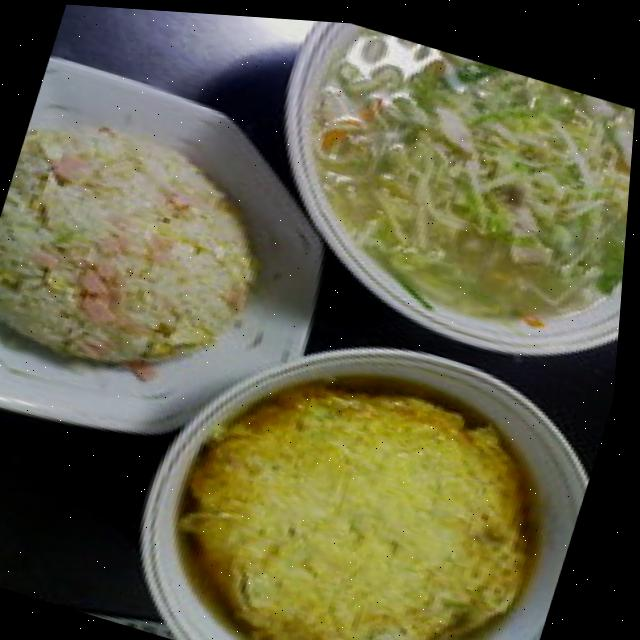米饭主食: (0, 50, 383, 500)
面条主食: (154, 326, 611, 640)
